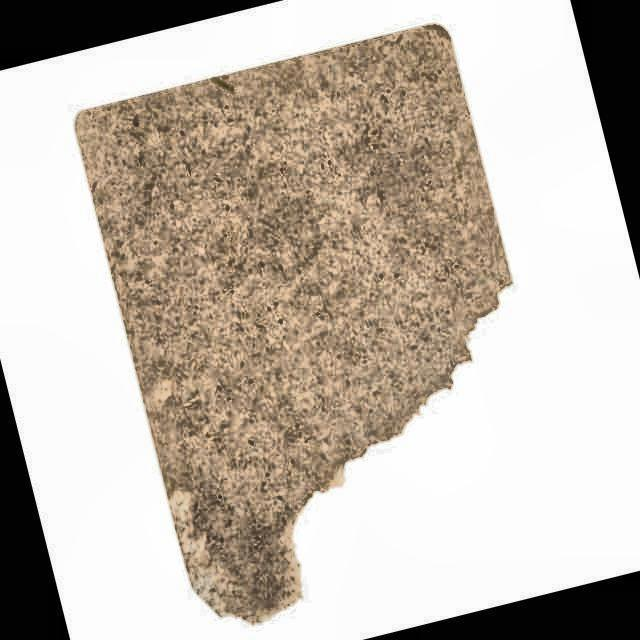cardboard: (75, 24, 513, 627)
